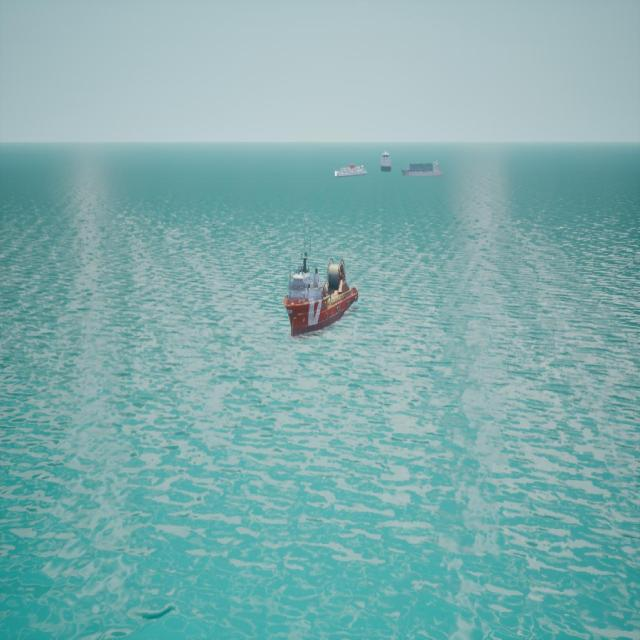tug boat: (284, 250, 361, 340)
